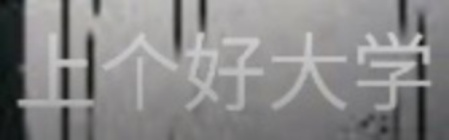TextView: (1, 1, 448, 139)
